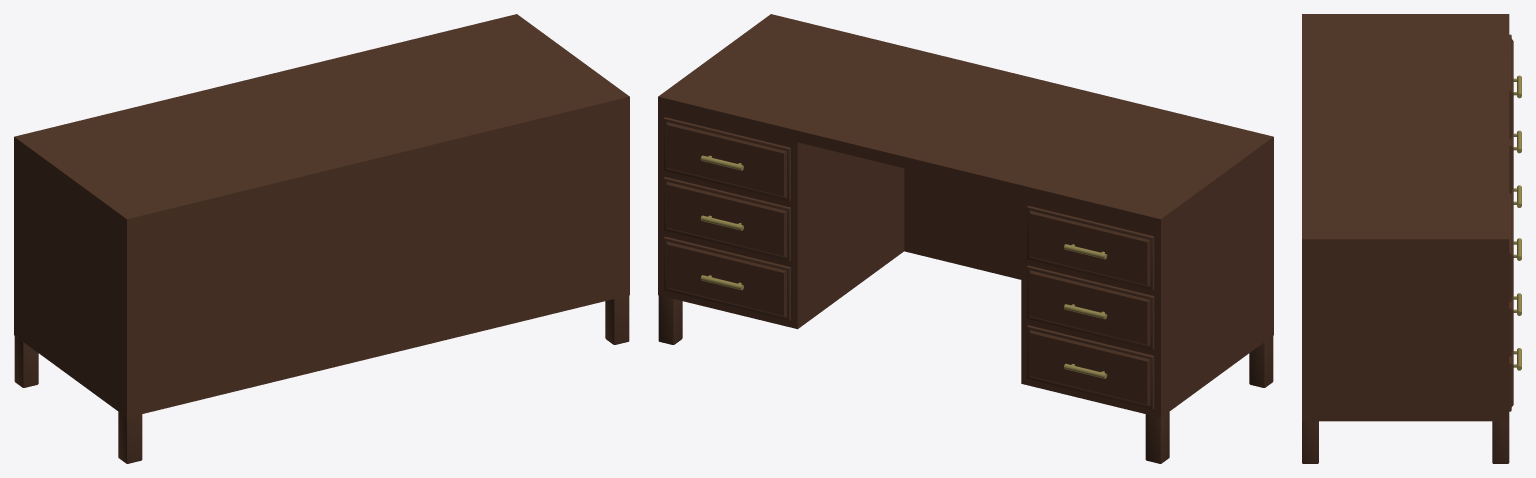
Rendered from Office_Desk.fbx.
3 views of the same model, side by side, from view 1: azimuth 30°, elevation 25°; view 2: azimuth 150°, elevation 25°; view 3: azimuth 270°, elevation 25° (orthographic). The views are drawn at different scales.
Visible parts, largest first — view 1: Cube.001; view 2: Cube.001, Desk_Drawer01L, Desk_Drawer03L, Desk_Drawer02L, Desk_Drawer01R, Desk_Drawer03R, Desk_Drawer02R; view 3: Cube.001, Desk_Drawer01L, Desk_Drawer01R, Desk_Drawer03R, Desk_Drawer02L, Desk_Drawer02R.
Boxes of the visible parts, x1,y1,x2,y2 form: Cube.001: (14, 14, 629, 463); Cube.001: (658, 14, 1273, 463); Desk_Drawer01L: (1027, 206, 1154, 289); Desk_Drawer03L: (1027, 325, 1154, 409); Desk_Drawer02L: (1027, 265, 1154, 349); Desk_Drawer01R: (664, 117, 790, 201); Desk_Drawer03R: (664, 236, 790, 320); Desk_Drawer02R: (664, 177, 790, 260); Cube.001: (1302, 14, 1509, 463); Desk_Drawer01L: (1509, 34, 1521, 139); Desk_Drawer01R: (1509, 197, 1521, 301); Desk_Drawer03R: (1509, 348, 1521, 411); Desk_Drawer02L: (1509, 130, 1521, 193); Desk_Drawer02R: (1509, 293, 1521, 356).
Bounding box in the file's own units: 1.8 × 0.8396 × 0.743.
